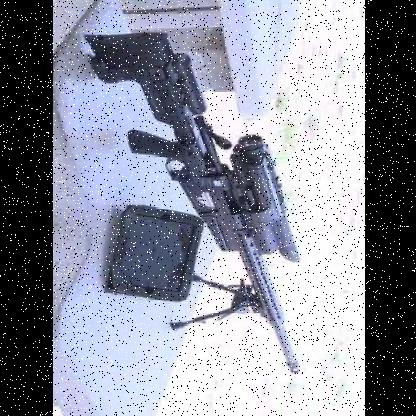rifle: (89, 10, 321, 383)
